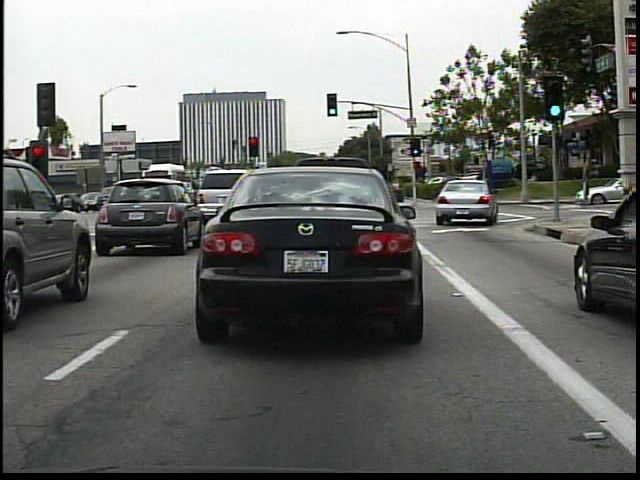person: (386, 174, 406, 208)
